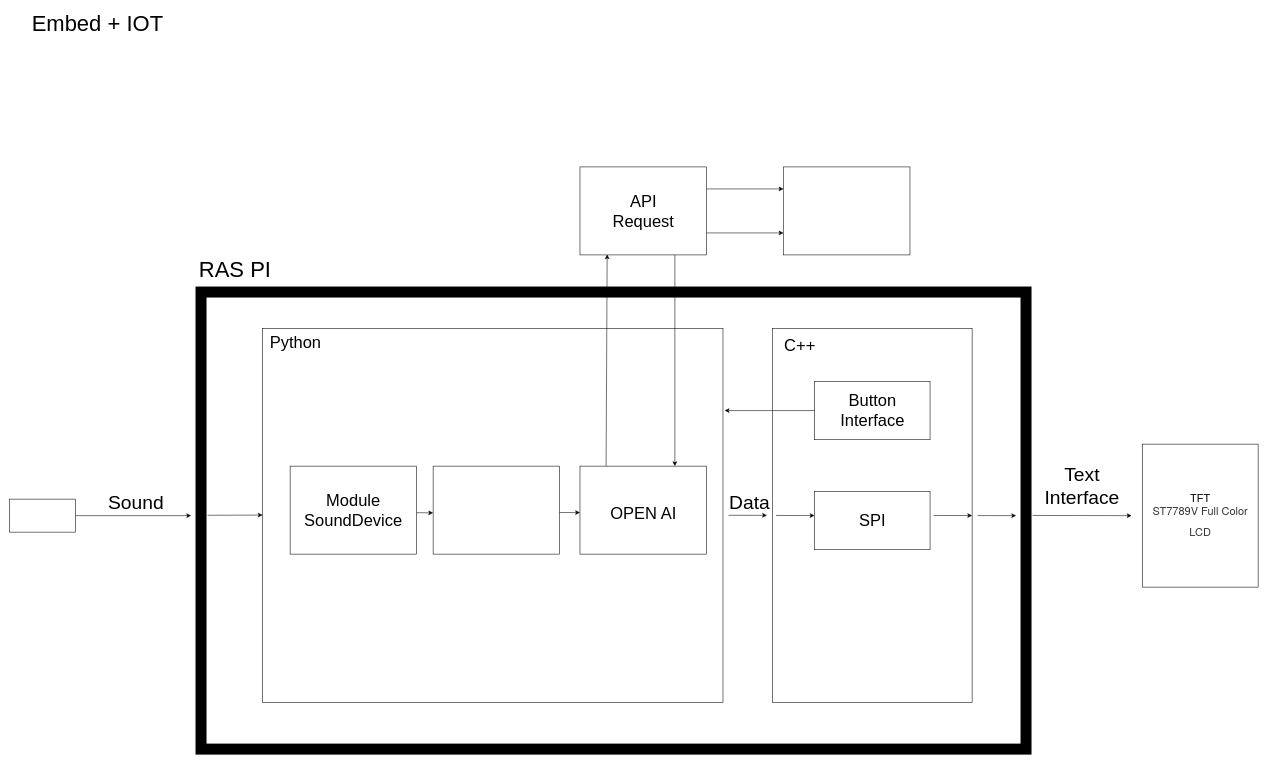
Some shapes in this 1268 by 764 pixel diagram are drawn without their labels. Each missing label, with the box of its shape:
MIC: (9, 499, 76, 532)
Server /DataBase: (783, 166, 910, 255)
Vosk: (433, 466, 560, 554)
